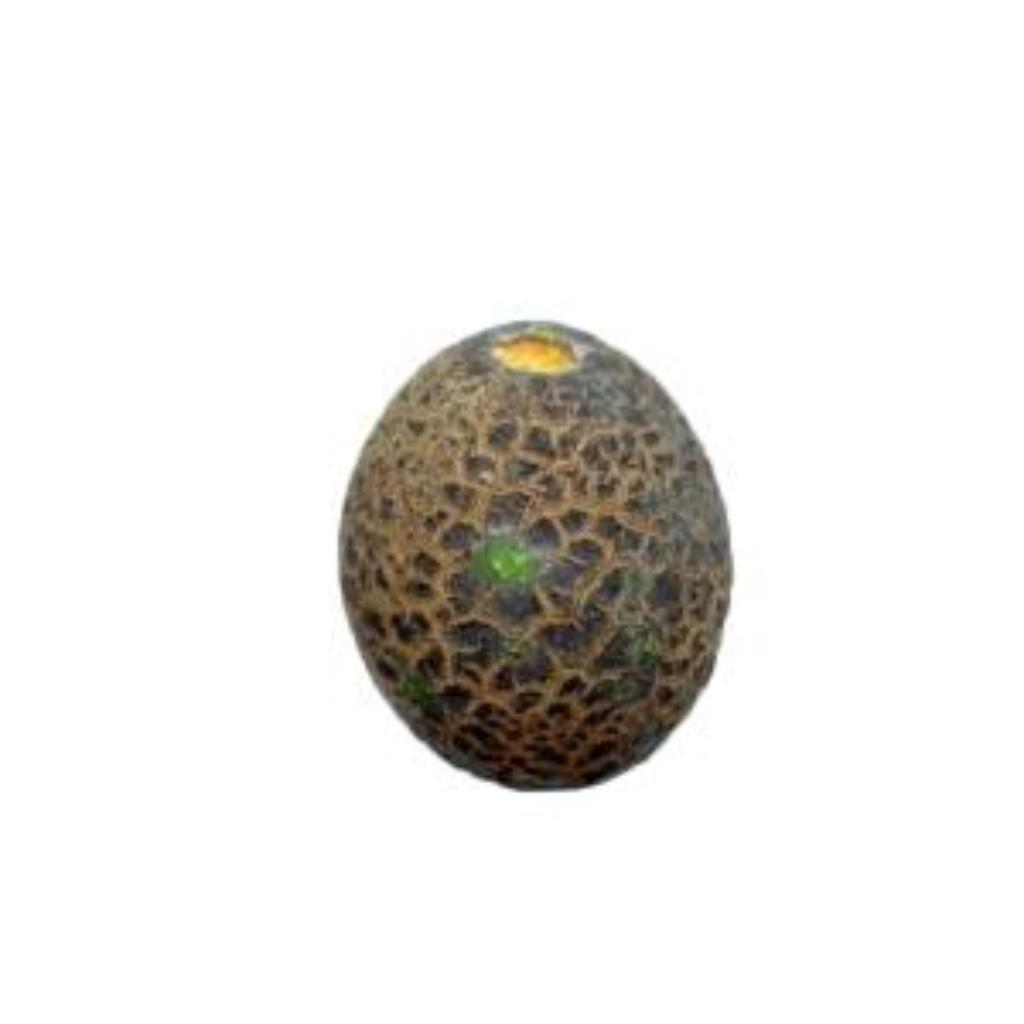cercospora_spot: (318, 304, 744, 806)
